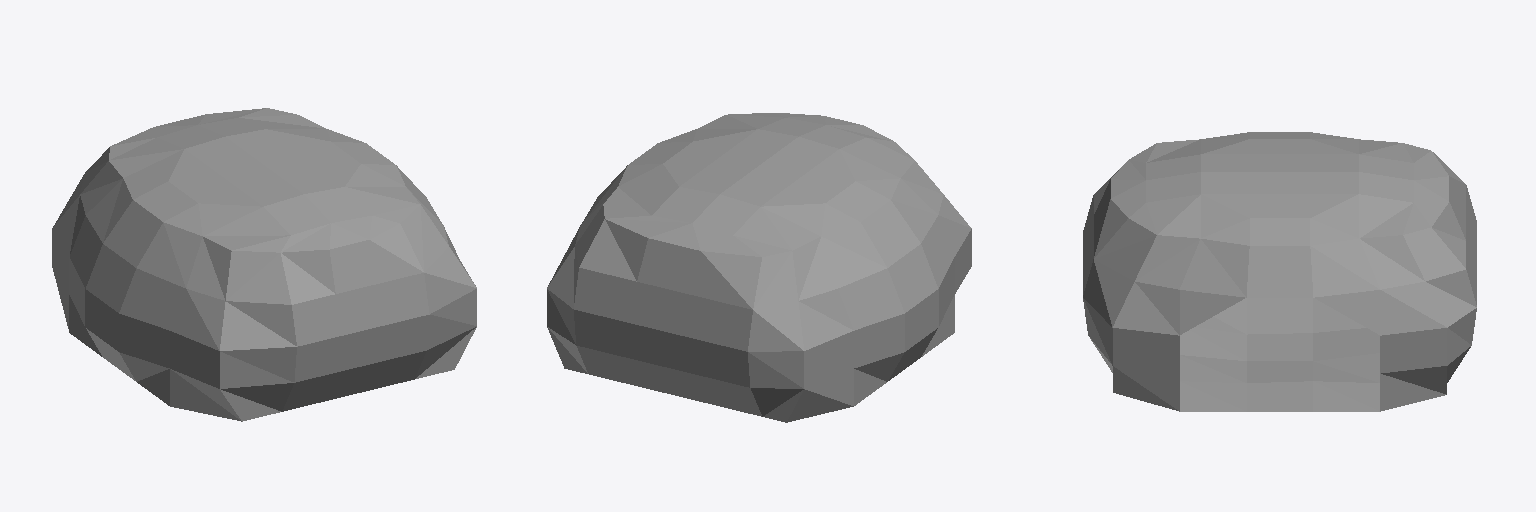
The model's file is Mesh_CavePack_Room_Square_End_Small_lod0.obj.
3 renders of one model, left to right at view 1: azimuth 30°, elevation 25°; view 2: azimuth 150°, elevation 25°; view 3: azimuth 270°, elevation 25°, orthographic.
Visible parts, largest first — view 1: Plane.018; view 2: Plane.018; view 3: Plane.018.
Boxes of the visible parts, x1=… form: Plane.018: x1=52, y1=108, x2=476, y2=421; Plane.018: x1=547, y1=113, x2=971, y2=422; Plane.018: x1=1083, y1=132, x2=1476, y2=411.
Bounding box in the file's own units: 16.96 × 9.32 × 18.84.